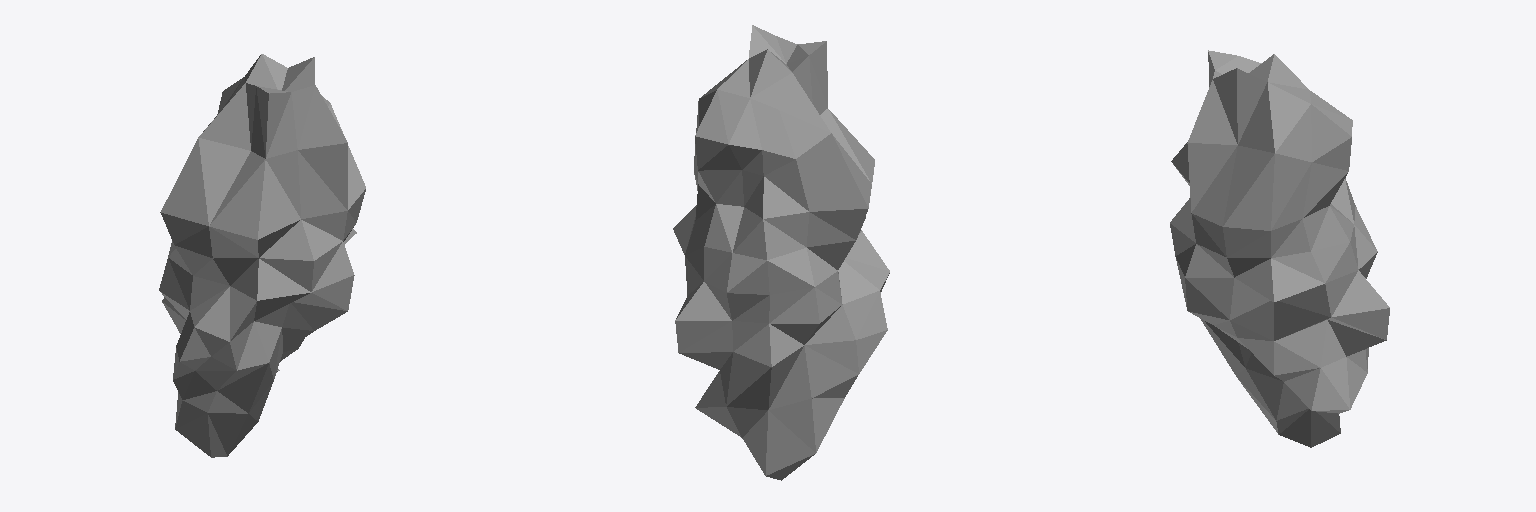
The model's file is composition_block.01.obj.
3 views of the same model, side by side, from view 1: azimuth 30°, elevation 25°; view 2: azimuth 150°, elevation 25°; view 3: azimuth 270°, elevation 25° (orthographic).
Visible parts, largest first — view 1: compositing_block.01_Cube; view 2: compositing_block.01_Cube; view 3: compositing_block.01_Cube.
Boxes of the visible parts, <box> form: compositing_block.01_Cube: <box>159,54,365,457</box>; compositing_block.01_Cube: <box>673,25,889,480</box>; compositing_block.01_Cube: <box>1170,50,1389,447</box>.
Size of the model in its own units: 1.91 by 3.82 by 1.85.